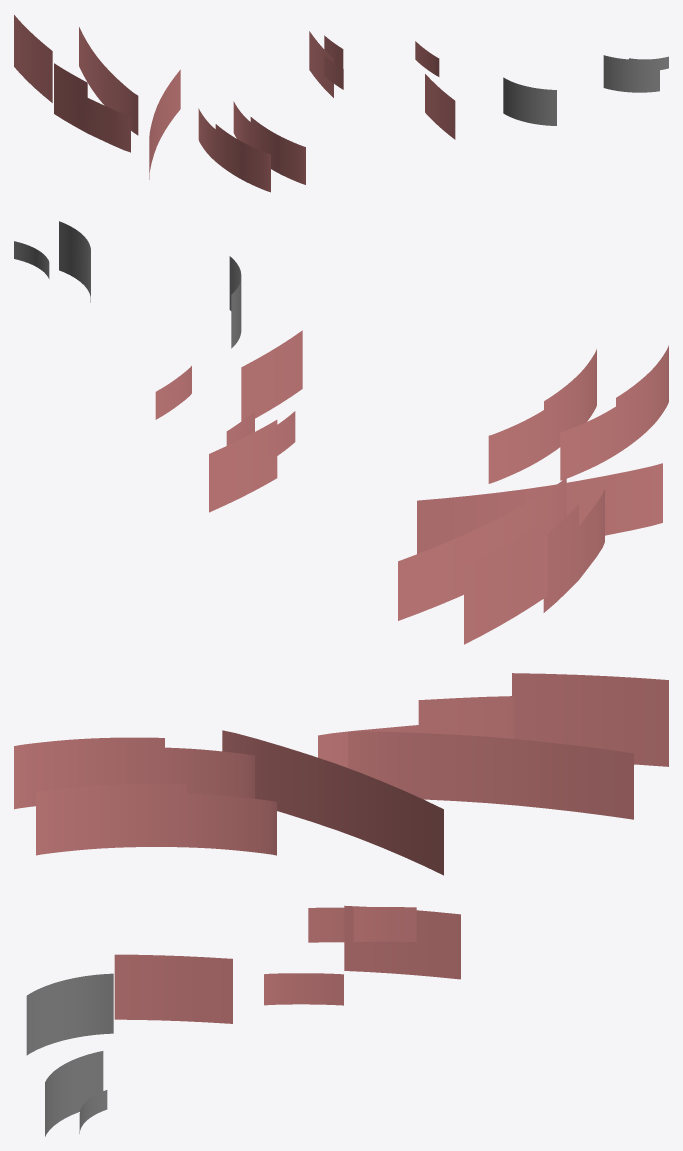
The model's file is S_Envi_Umeda_Background_01b_Merge.gltf.
3 views of the same model, one above another, from view 1: azimuth 30°, elevation 25°; view 2: azimuth 150°, elevation 25°; view 3: azimuth 270°, elevation 25° (orthographic). The views are drawn at different scales.
Parts seen in each view (by area): view 1: S_Envi_Umeda_Background_01b_Merge; view 2: S_Envi_Umeda_Background_01b_Merge; view 3: S_Envi_Umeda_Background_01b_Merge.
Part boxes in pixels (x1,y1,x2,y2): S_Envi_Umeda_Background_01b_Merge: [14, 15, 668, 192]; S_Envi_Umeda_Background_01b_Merge: [14, 221, 668, 644]; S_Envi_Umeda_Background_01b_Merge: [14, 673, 668, 1136].
Bounding box in the file's own units: 4648 × 643 × 3262.
